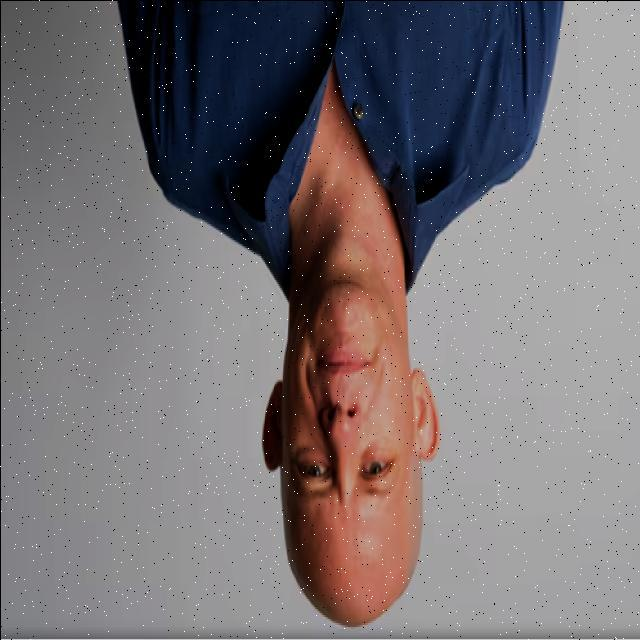face_no_mask: (259, 277, 443, 571)
